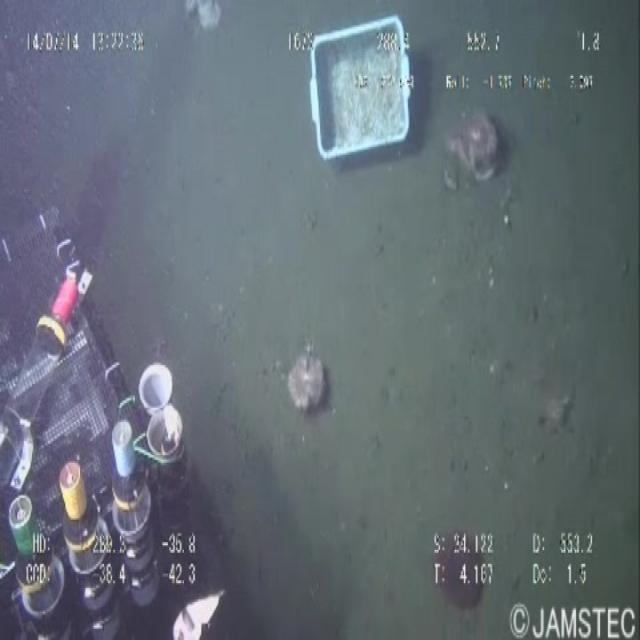Cutlery: (296, 9, 430, 163)
Litter: (180, 0, 222, 54)
